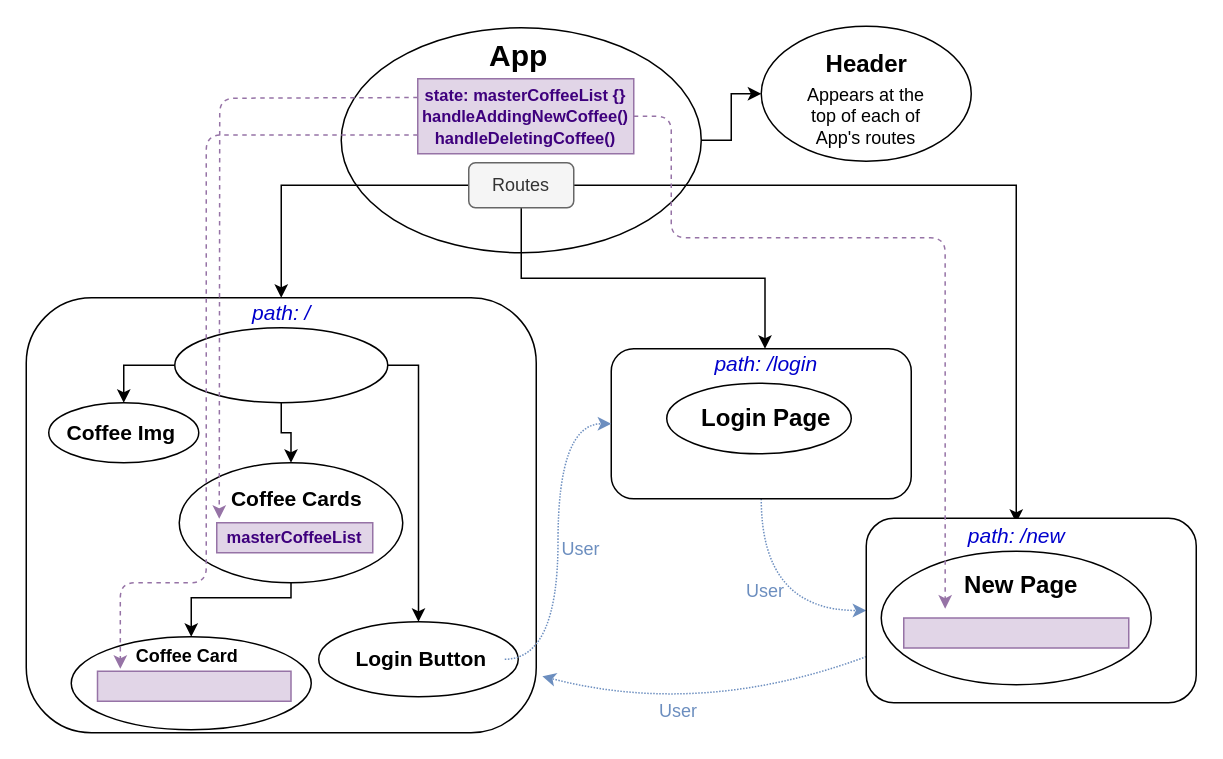
The diagram is 1223 pixels wide and 759 high, and some of its shapes have lost their labels. The shapes that lost their labels are listed below. From the top down, each one's box as (x1, y1, x2, y2) in pixels, then its label:
(173, 326, 388, 403): Home Page
(902, 616, 1129, 648): handleAddingNewCoffee()
(96, 670, 291, 701): handleDeletingCoffee()
